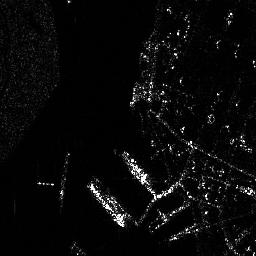ship: (86, 181, 125, 227), (123, 151, 154, 187)
